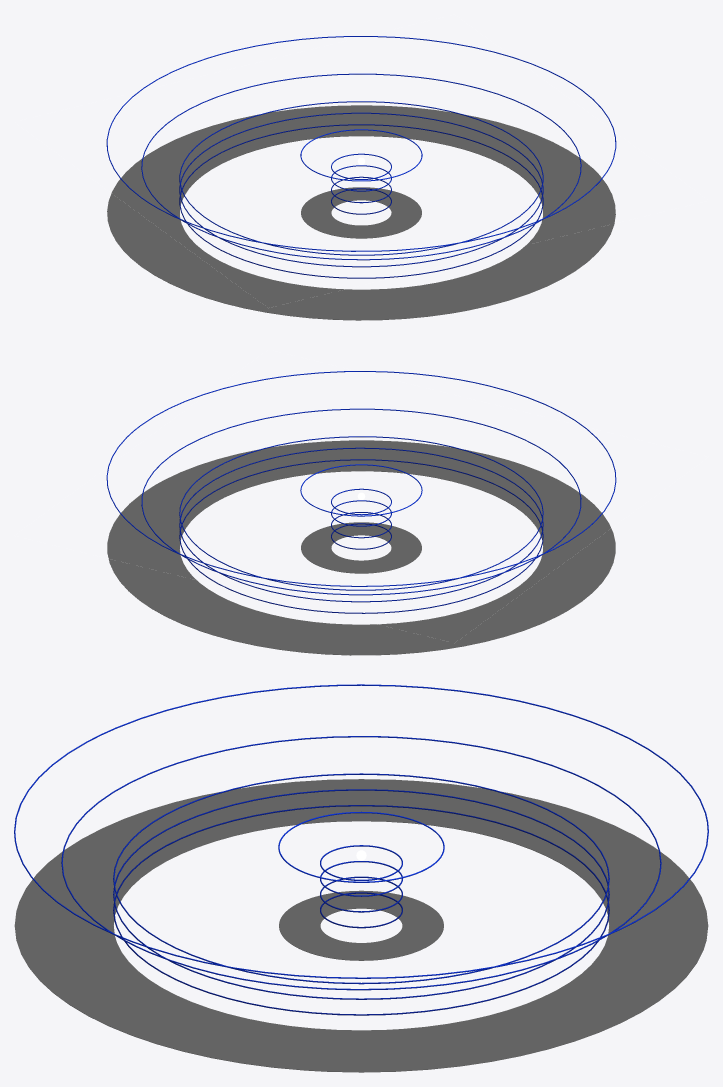
The model's file is houen03.glb.
The picture shows the model from 3 angles, top to bottom: view 1: azimuth 30°, elevation 25°; view 2: azimuth 150°, elevation 25°; view 3: azimuth 270°, elevation 25°; orthographic projection. The views are drawn at different scales.
Visible parts, largest first — view 1: 押し出し.1, スイープ.14, スイープ.13, スイープ.10, スイープ.12, スイープ.11; view 2: 押し出し.1, スイープ.14, スイープ.13, スイープ.10, スイープ.12, スイープ.11; view 3: 押し出し.1, スイープ.14, スイープ.13, スイープ.12, スイープ.10, スイープ.11, スイープ.18.
Boxes of the visible parts, <box> form: 押し出し.1: <box>107,105,615,320</box>; スイープ.14: <box>106,36,616,251</box>; スイープ.13: <box>141,73,581,260</box>; スイープ.10: <box>179,124,543,278</box>; スイープ.12: <box>179,101,543,255</box>; スイープ.11: <box>179,112,543,267</box>; 押し出し.1: <box>107,440,615,655</box>; スイープ.14: <box>106,371,616,586</box>; スイープ.13: <box>141,408,581,595</box>; スイープ.10: <box>179,459,543,613</box>; スイープ.12: <box>179,436,543,590</box>; スイープ.11: <box>179,447,543,602</box>; 押し出し.1: <box>14,779,708,1072</box>; スイープ.14: <box>14,684,708,978</box>; スイープ.13: <box>61,736,661,990</box>; スイープ.12: <box>113,773,609,984</box>; スイープ.10: <box>113,805,609,1015</box>; スイープ.11: <box>113,789,609,999</box>; スイープ.18: <box>278,811,444,882</box>.
Size of the model in its own units: 0.02 by 0.00302 by 0.02.
